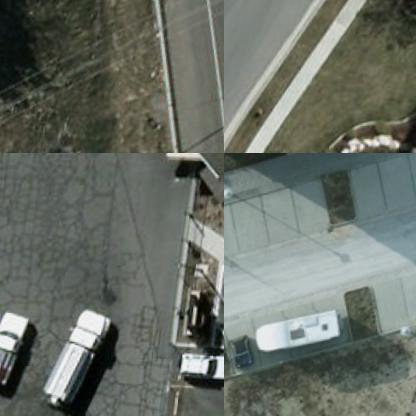car: (174, 353, 223, 385), (227, 338, 260, 375)
pickup: (0, 311, 38, 389)
truck: (33, 310, 109, 410)
